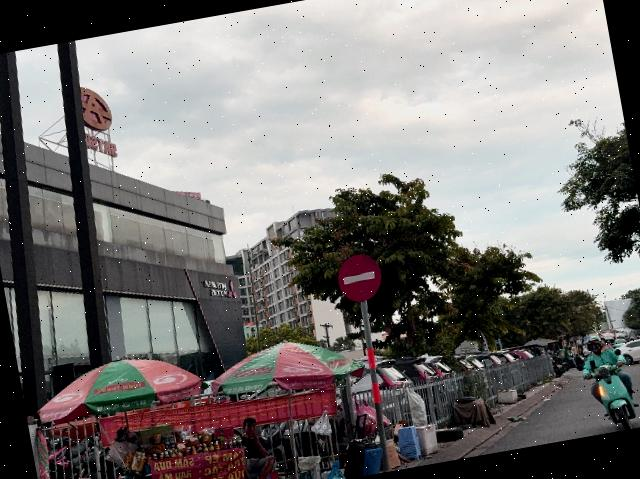cam-di-nguoc-chieu: (334, 250, 385, 306)
